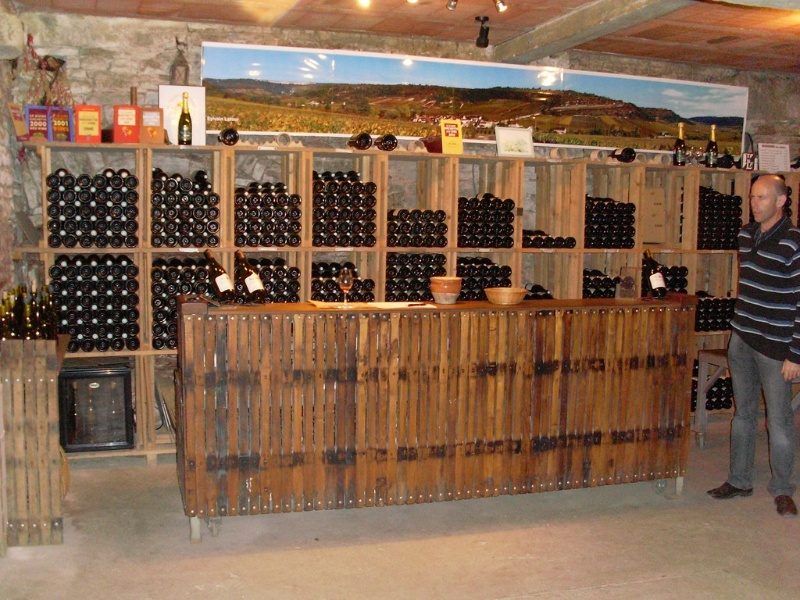wine: (46, 154, 141, 356), (681, 181, 757, 410), (149, 167, 230, 354), (310, 163, 380, 301), (236, 176, 303, 307), (387, 204, 453, 308), (461, 191, 516, 299), (584, 194, 632, 296), (522, 225, 577, 302), (352, 126, 399, 159), (668, 118, 690, 173), (174, 91, 196, 144), (703, 119, 721, 170), (610, 136, 637, 164), (212, 126, 242, 150)
